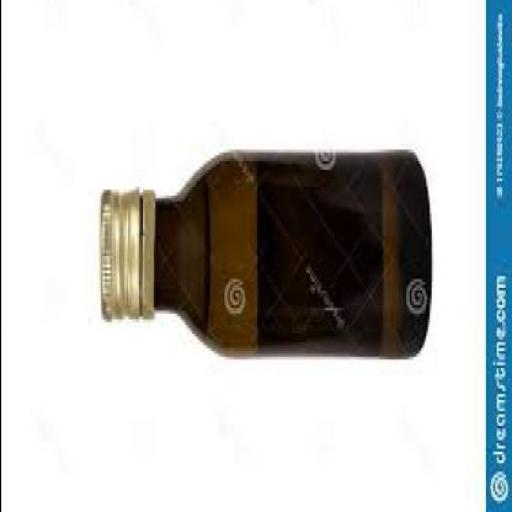glass: (153, 152, 428, 366)
metal: (94, 192, 151, 326)
